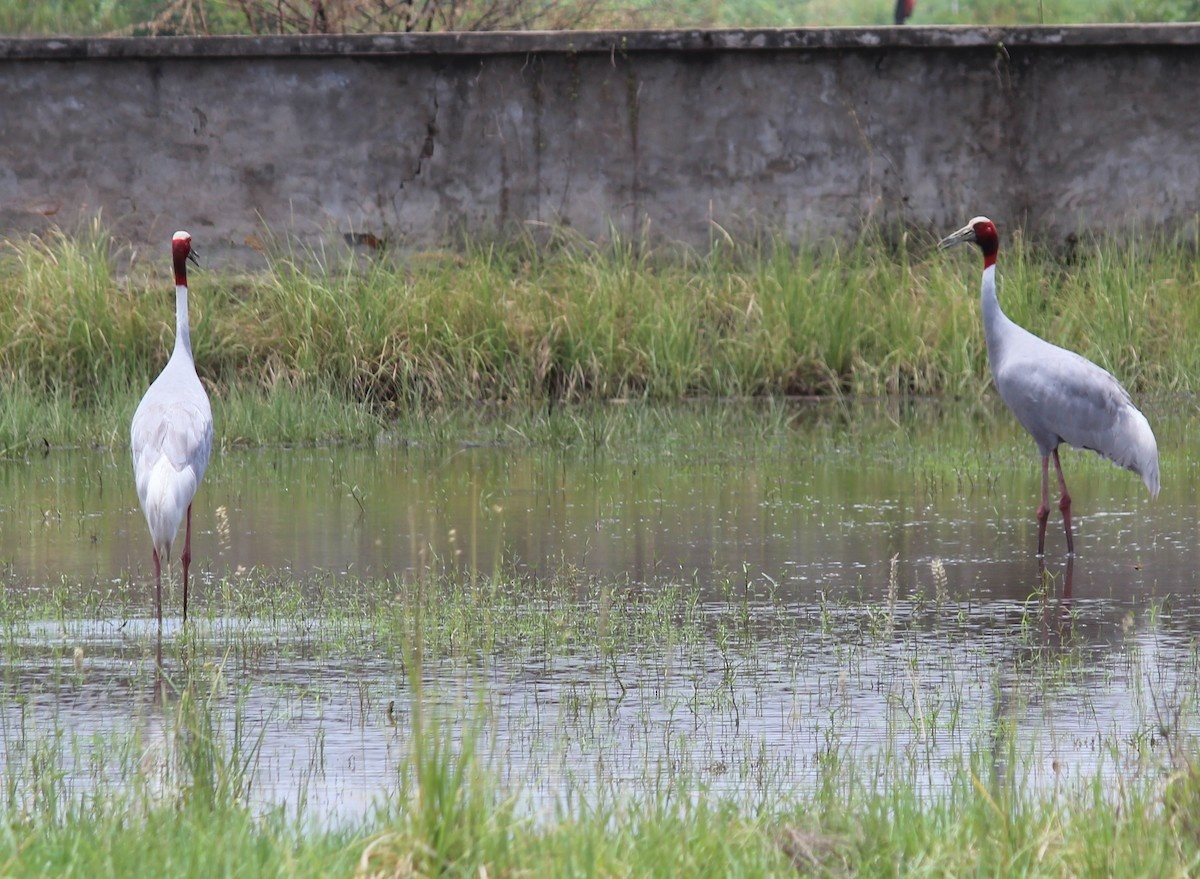crane: (919, 204, 1184, 576), (104, 221, 238, 622)
